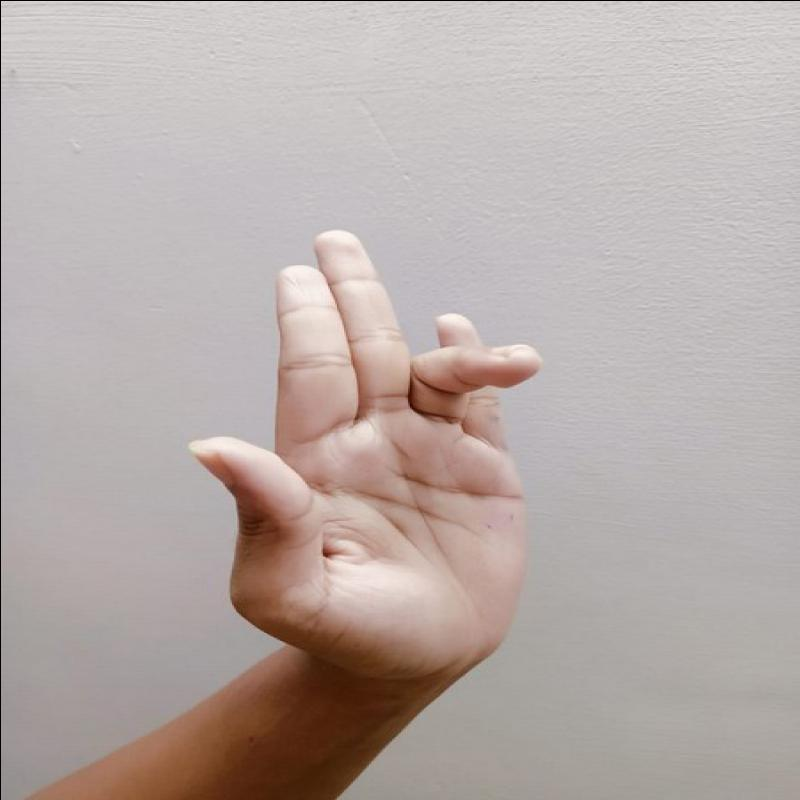Pathaaka: (173, 222, 561, 687)
